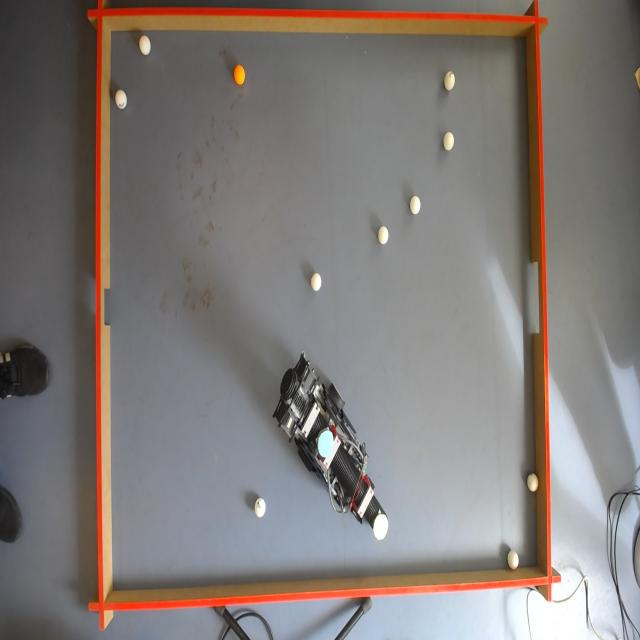orange: (232, 66, 246, 85)
robot: (275, 358, 389, 539)
robot-front: (373, 513, 389, 541)
robot-rear: (317, 429, 334, 458)
white: (254, 497, 268, 521), (138, 36, 151, 58), (116, 89, 130, 109), (310, 272, 322, 292), (528, 472, 540, 492), (506, 552, 520, 569), (378, 226, 391, 244), (444, 74, 456, 92), (444, 131, 455, 150), (411, 196, 422, 214)
